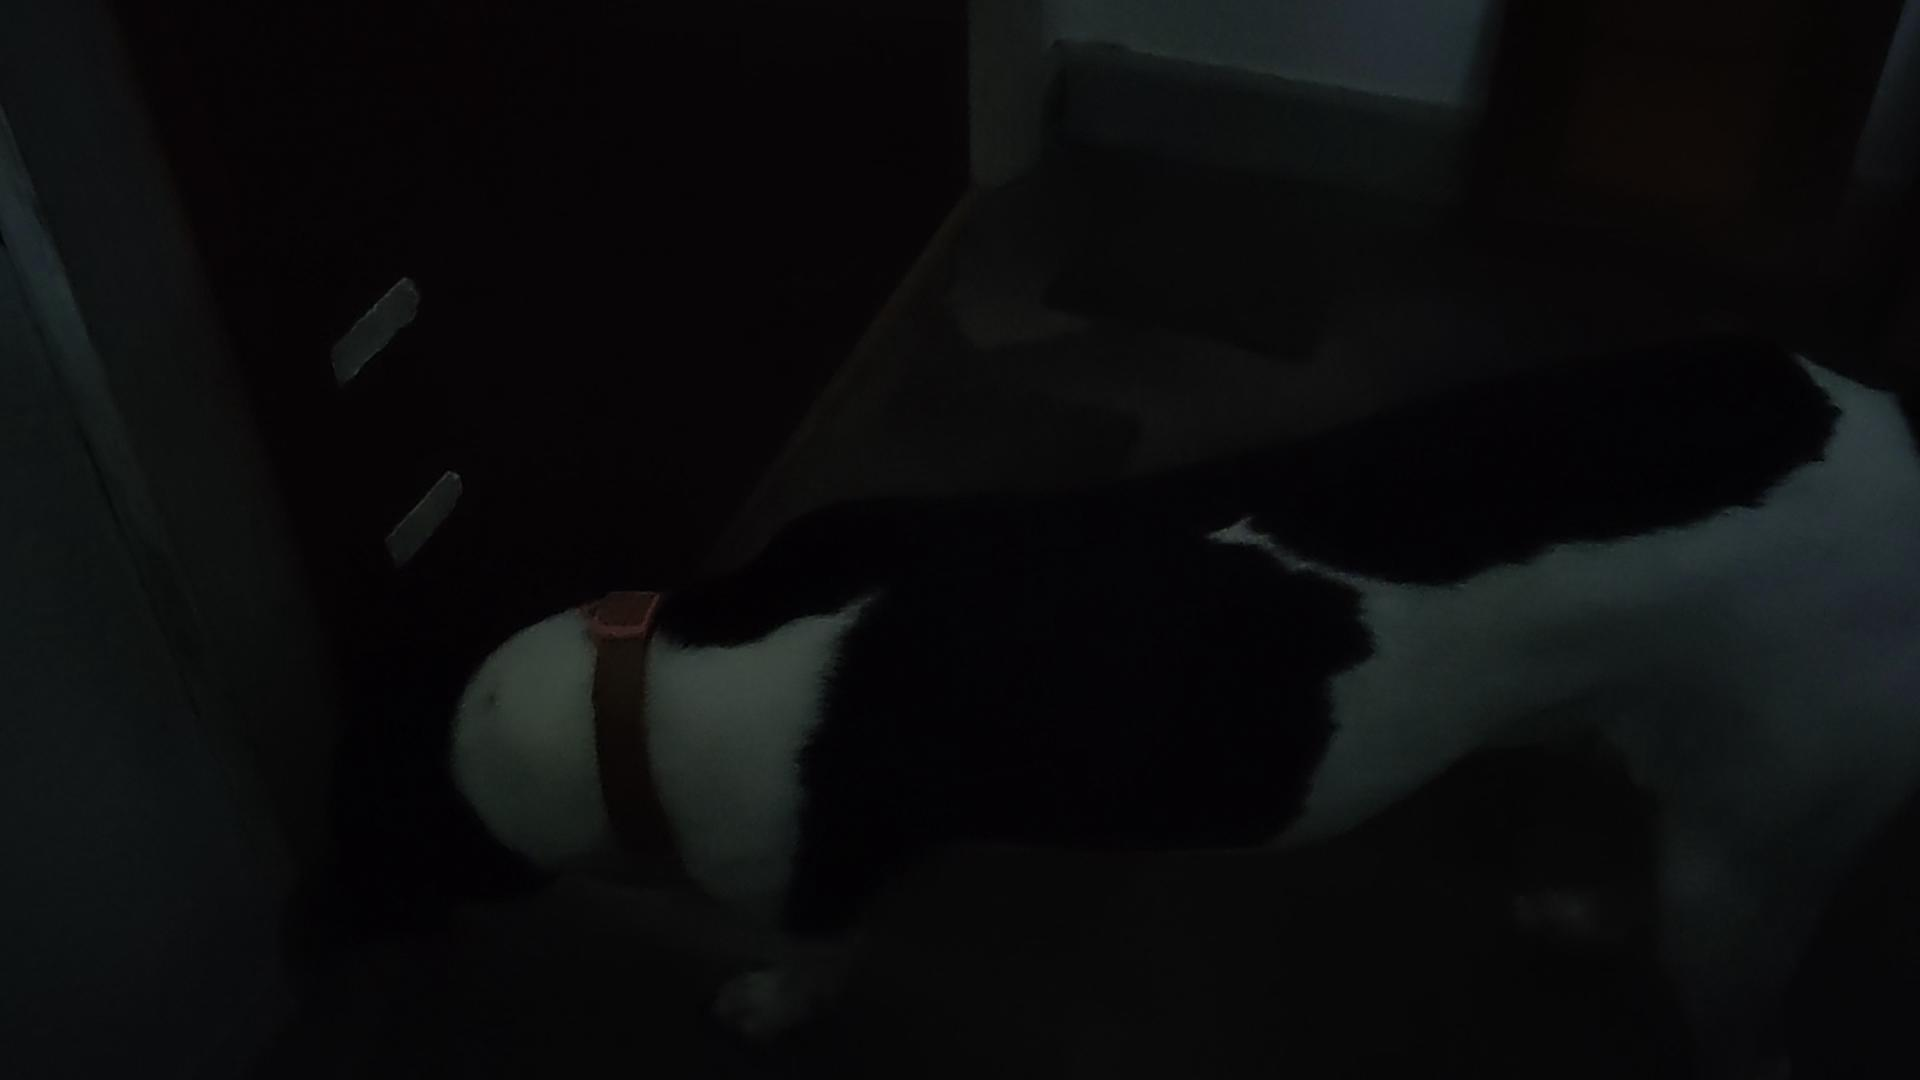Dog: (251, 301, 1919, 1079)
